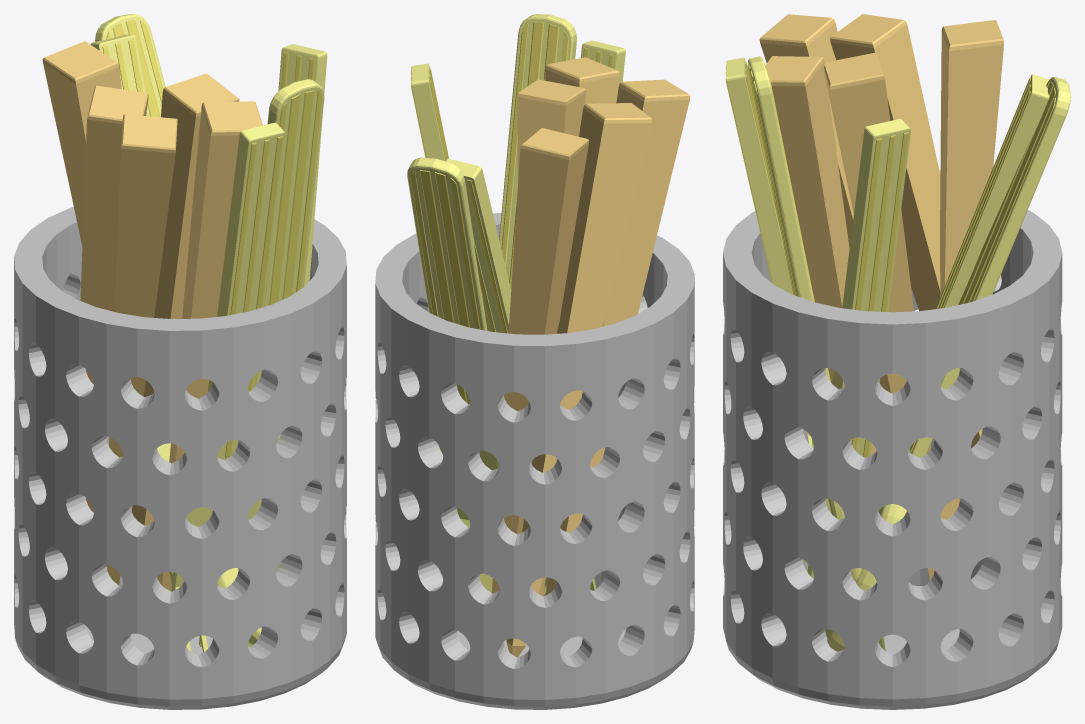
Rendered from Hoolder2.fbx.
3 views of the same model, side by side, from view 1: azimuth 30°, elevation 25°; view 2: azimuth 150°, elevation 25°; view 3: azimuth 270°, elevation 25° (orthographic). The views are drawn at different scales.
Visible parts, largest first — view 1: Circle, polySurface1, Circle1.001, polySurface2, Circle1, polySurface4, polySurface3, polySurface5, Circle2, Circle1.003, Circle1.002; view 2: Circle, polySurface4, polySurface5, Circle2, polySurface1, Circle1, Circle1.002, polySurface3, polySurface2, Circle1.003, Circle1.001; view 3: Circle, polySurface2, polySurface5, polySurface4, Circle1.003, Circle2, polySurface3, Circle1.002, Circle1, Circle1.001, polySurface1.
Boxes of the visible parts, box(x1,y1,x2,y2) form: Circle: box(14, 207, 346, 709); polySurface1: box(106, 114, 177, 585); Circle1.001: box(171, 122, 285, 646); polySurface2: box(158, 101, 262, 591); Circle1: box(254, 79, 324, 511); polySurface4: box(80, 85, 148, 512); polySurface3: box(132, 73, 239, 525); polySurface5: box(42, 41, 158, 579); Circle2: box(95, 14, 261, 647); Circle1.003: box(277, 44, 327, 570); Circle1.002: box(90, 34, 207, 652); Circle: box(375, 212, 694, 709); polySurface4: box(506, 103, 651, 657); polySurface5: box(491, 128, 588, 593); Circle2: box(407, 157, 498, 520); polySurface1: box(546, 79, 690, 594); Circle1: box(460, 14, 576, 596); Circle1.002: box(445, 158, 596, 590); polySurface3: box(517, 79, 585, 596); polySurface2: box(545, 57, 619, 589); Circle1.003: box(411, 63, 448, 160); Circle1.001: box(580, 40, 625, 92); Circle: box(723, 210, 1062, 709); polySurface2: box(765, 56, 876, 455); polySurface5: box(940, 20, 1003, 519); polySurface4: box(830, 14, 982, 448); Circle1.003: box(802, 118, 910, 578); Circle2: box(825, 76, 1070, 651); polySurface3: box(824, 52, 934, 580); Circle1.002: box(936, 74, 1049, 308); Circle1: box(747, 56, 885, 651); Circle1.001: box(725, 57, 812, 446); polySurface1: box(759, 14, 890, 392).
Size of the model in its own units: 5.76 by 11.4 by 5.9.
